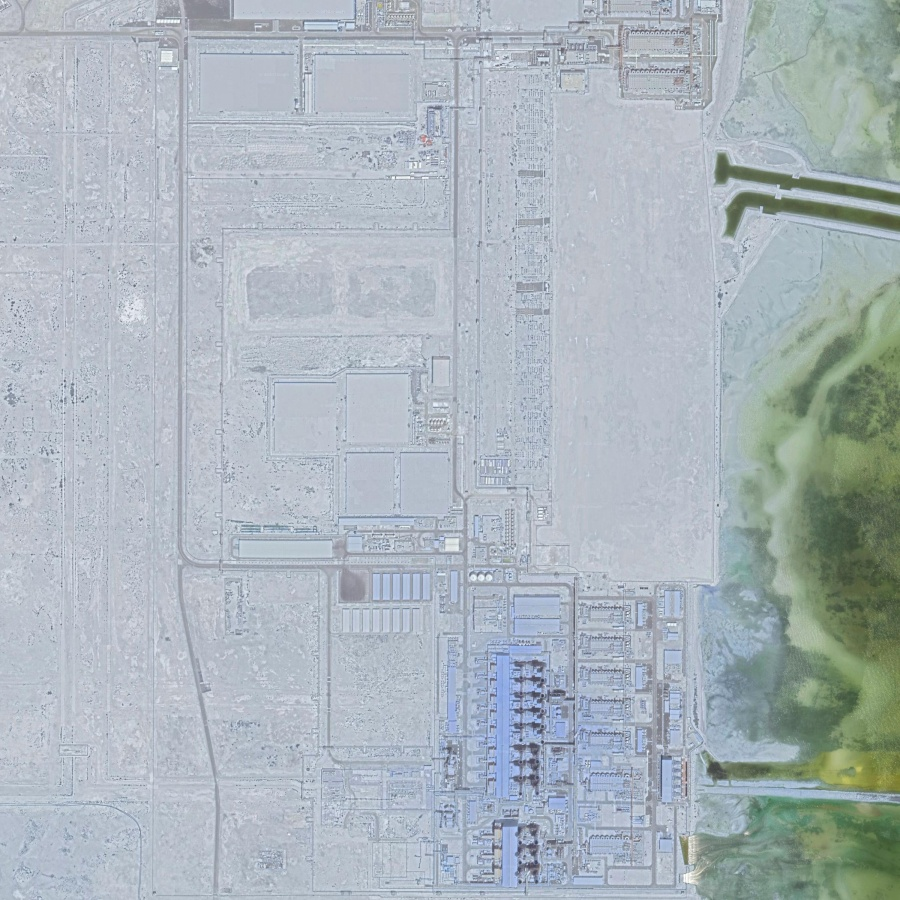PowerPlant: (458, 562, 718, 888)
